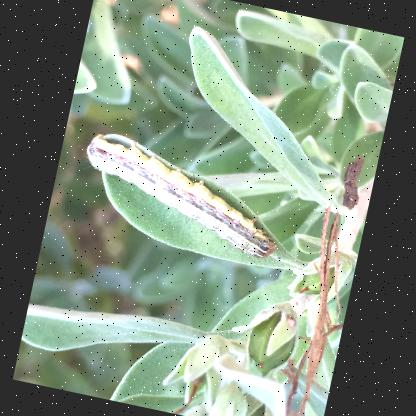Fall Armyworm Larvae: (56, 125, 295, 269)
